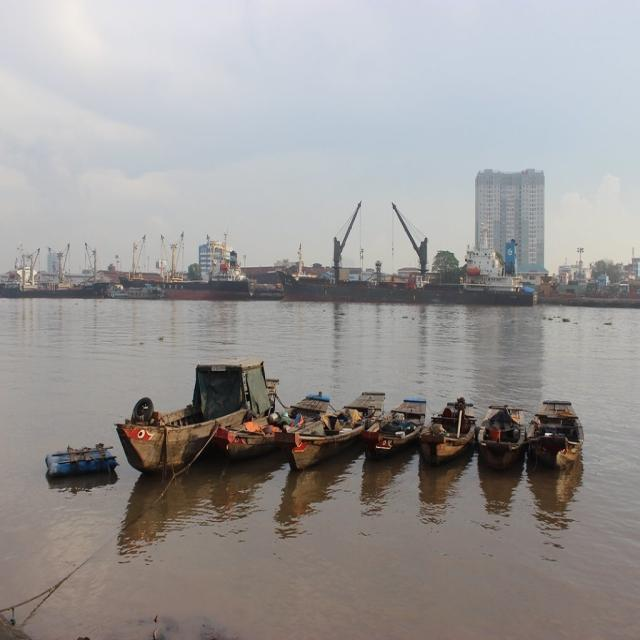Hyacinth: (544, 313, 564, 322), (601, 320, 616, 330), (153, 335, 169, 343), (400, 316, 419, 322), (559, 317, 573, 324), (335, 310, 347, 317)
boat: (112, 357, 278, 474), (288, 388, 384, 473), (221, 389, 332, 451), (529, 393, 584, 468), (366, 392, 426, 456), (420, 396, 474, 467), (479, 398, 527, 459)
